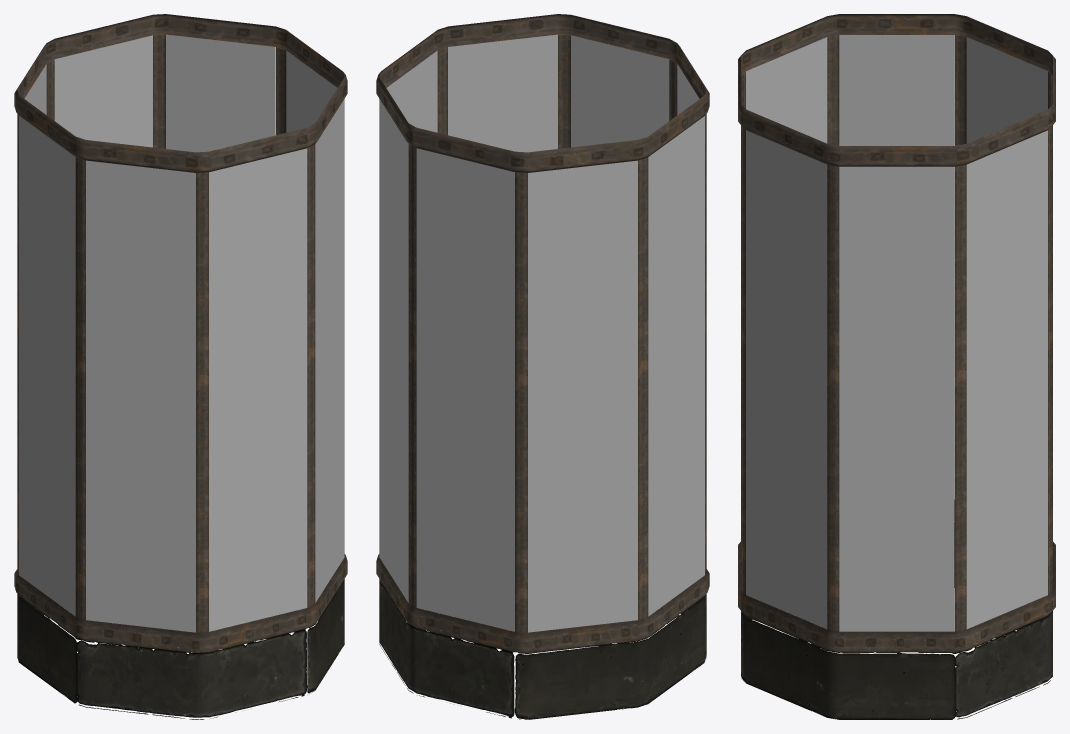
The picture shows the model from 3 angles, left to right: view 1: azimuth 30°, elevation 25°; view 2: azimuth 150°, elevation 25°; view 3: azimuth 270°, elevation 25°; orthographic projection.
Visible parts, largest first — view 1: SM_Dowdun_Corner_Turret_07_LOD0; view 2: SM_Dowdun_Corner_Turret_07_LOD0; view 3: SM_Dowdun_Corner_Turret_07_LOD0.
Part boxes in pixels (x1,y1,x2,y2): SM_Dowdun_Corner_Turret_07_LOD0: (14, 14, 347, 719); SM_Dowdun_Corner_Turret_07_LOD0: (376, 14, 709, 719); SM_Dowdun_Corner_Turret_07_LOD0: (738, 14, 1055, 719).
Size of the model in its own units: 6.02 by 12 by 6.02.
